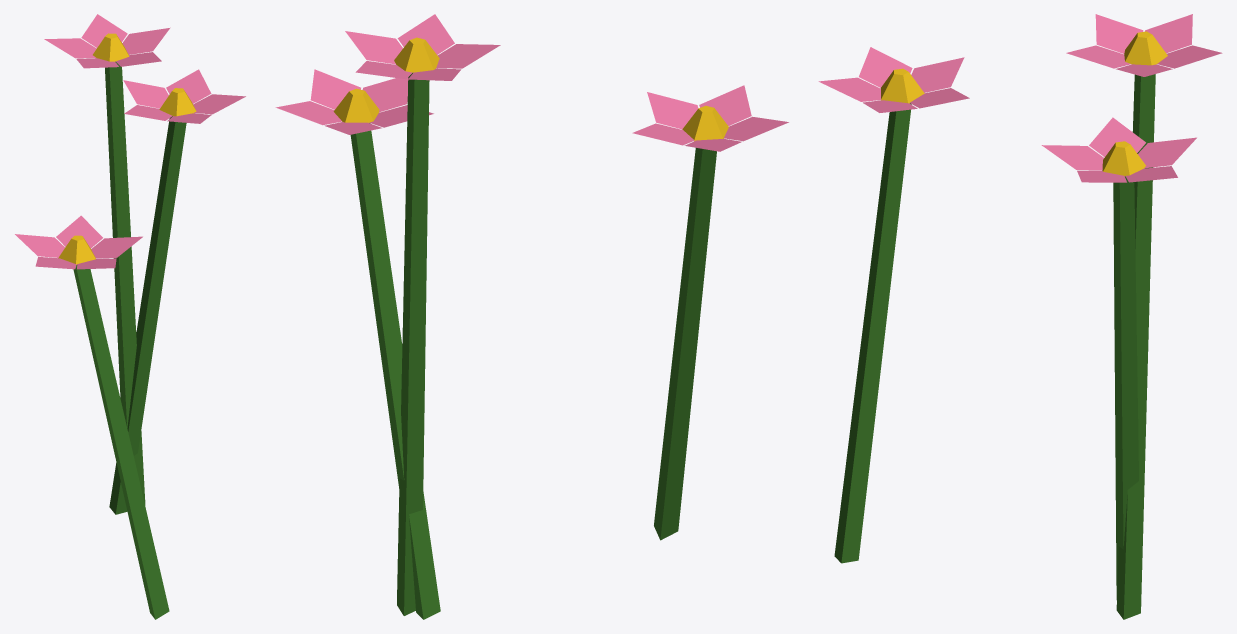
Rendered from Flower_Pink.fbx.
3 views of the same model, side by side, from view 1: azimuth 30°, elevation 25°; view 2: azimuth 150°, elevation 25°; view 3: azimuth 270°, elevation 25° (orthographic). The views are drawn at different scales.
Parts seen in each view (by area): view 1: Flower_Pink.001; view 2: Flower_Pink.001; view 3: Flower_Pink.001.
Part boxes in pixels (left/top/right/bottom): Flower_Pink.001: left=15, top=14, right=245, bottom=619; Flower_Pink.001: left=275, top=14, right=788, bottom=619; Flower_Pink.001: left=818, top=14, right=1222, bottom=619.
Bounding box in the file's own units: 0.2023 × 0.3058 × 0.1959.
